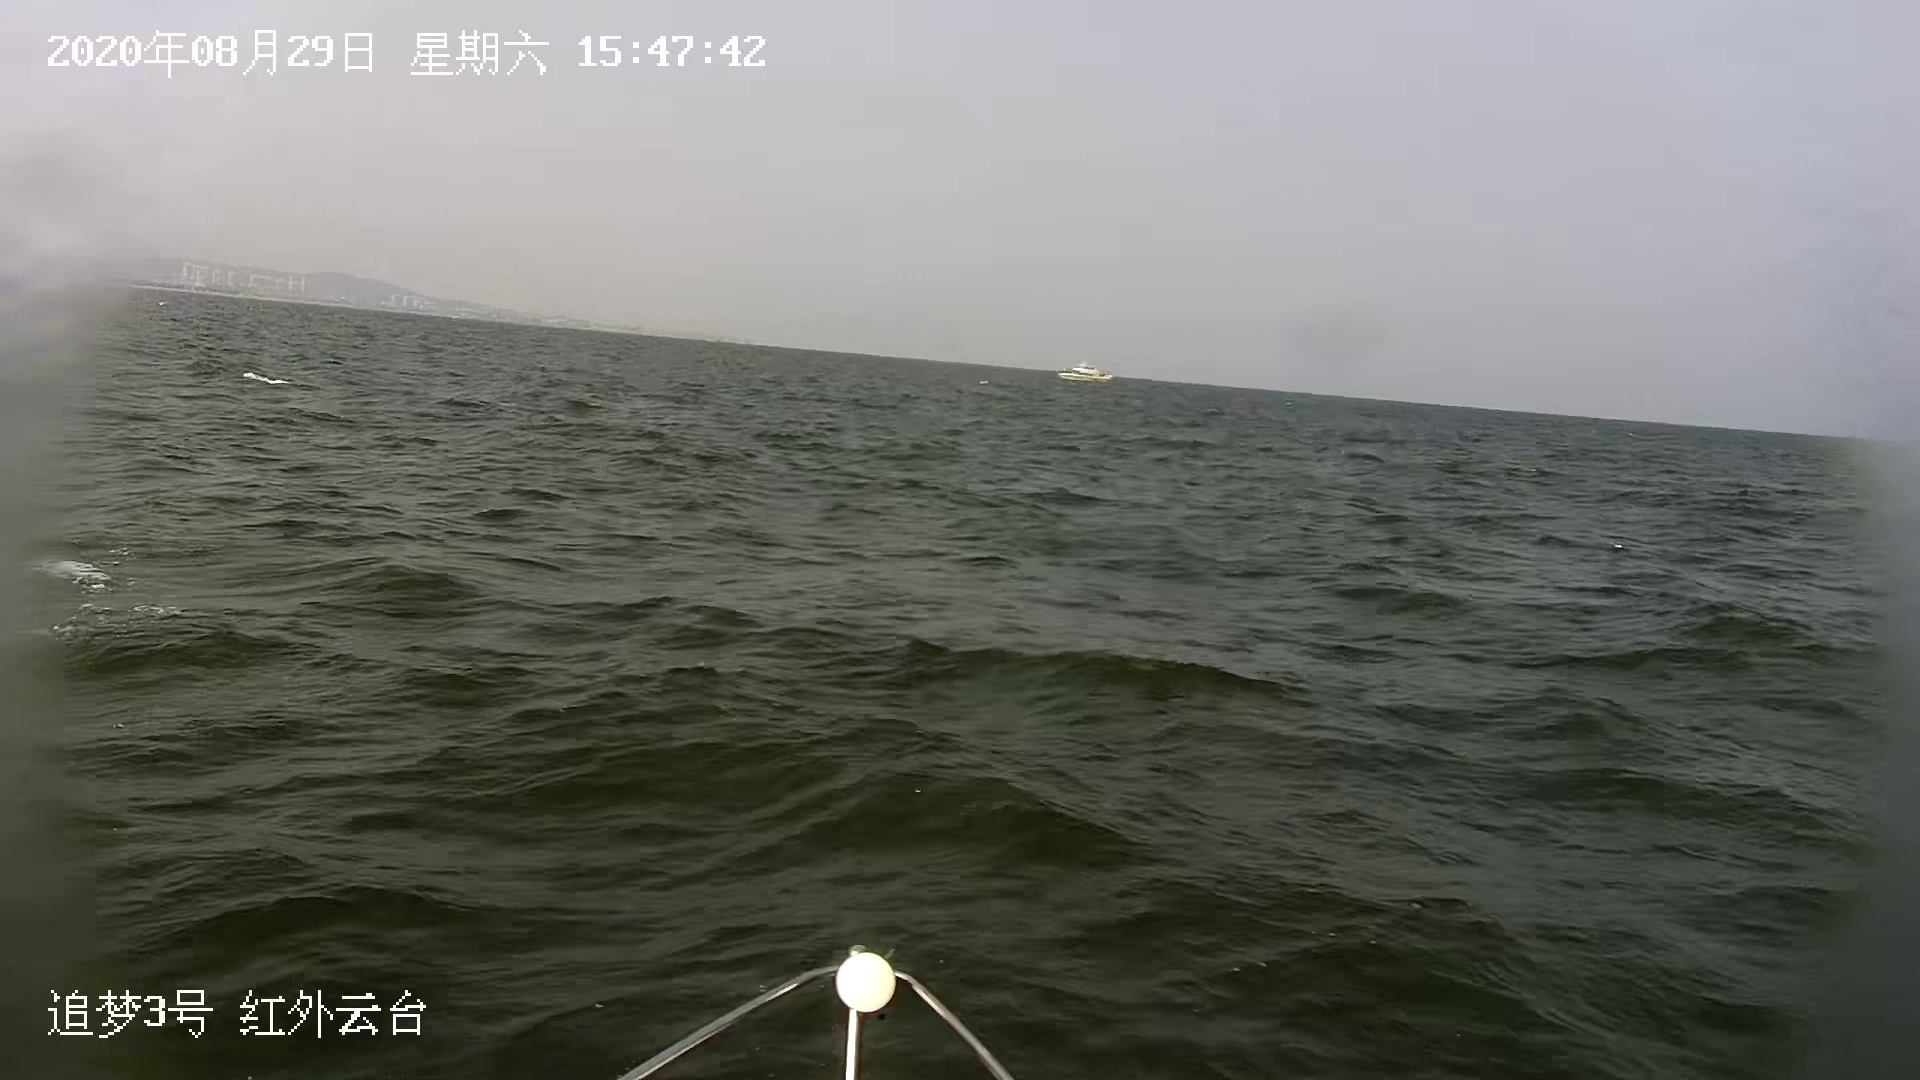barrier: (1051, 359, 1118, 385)
coast: (1, 253, 785, 356)
